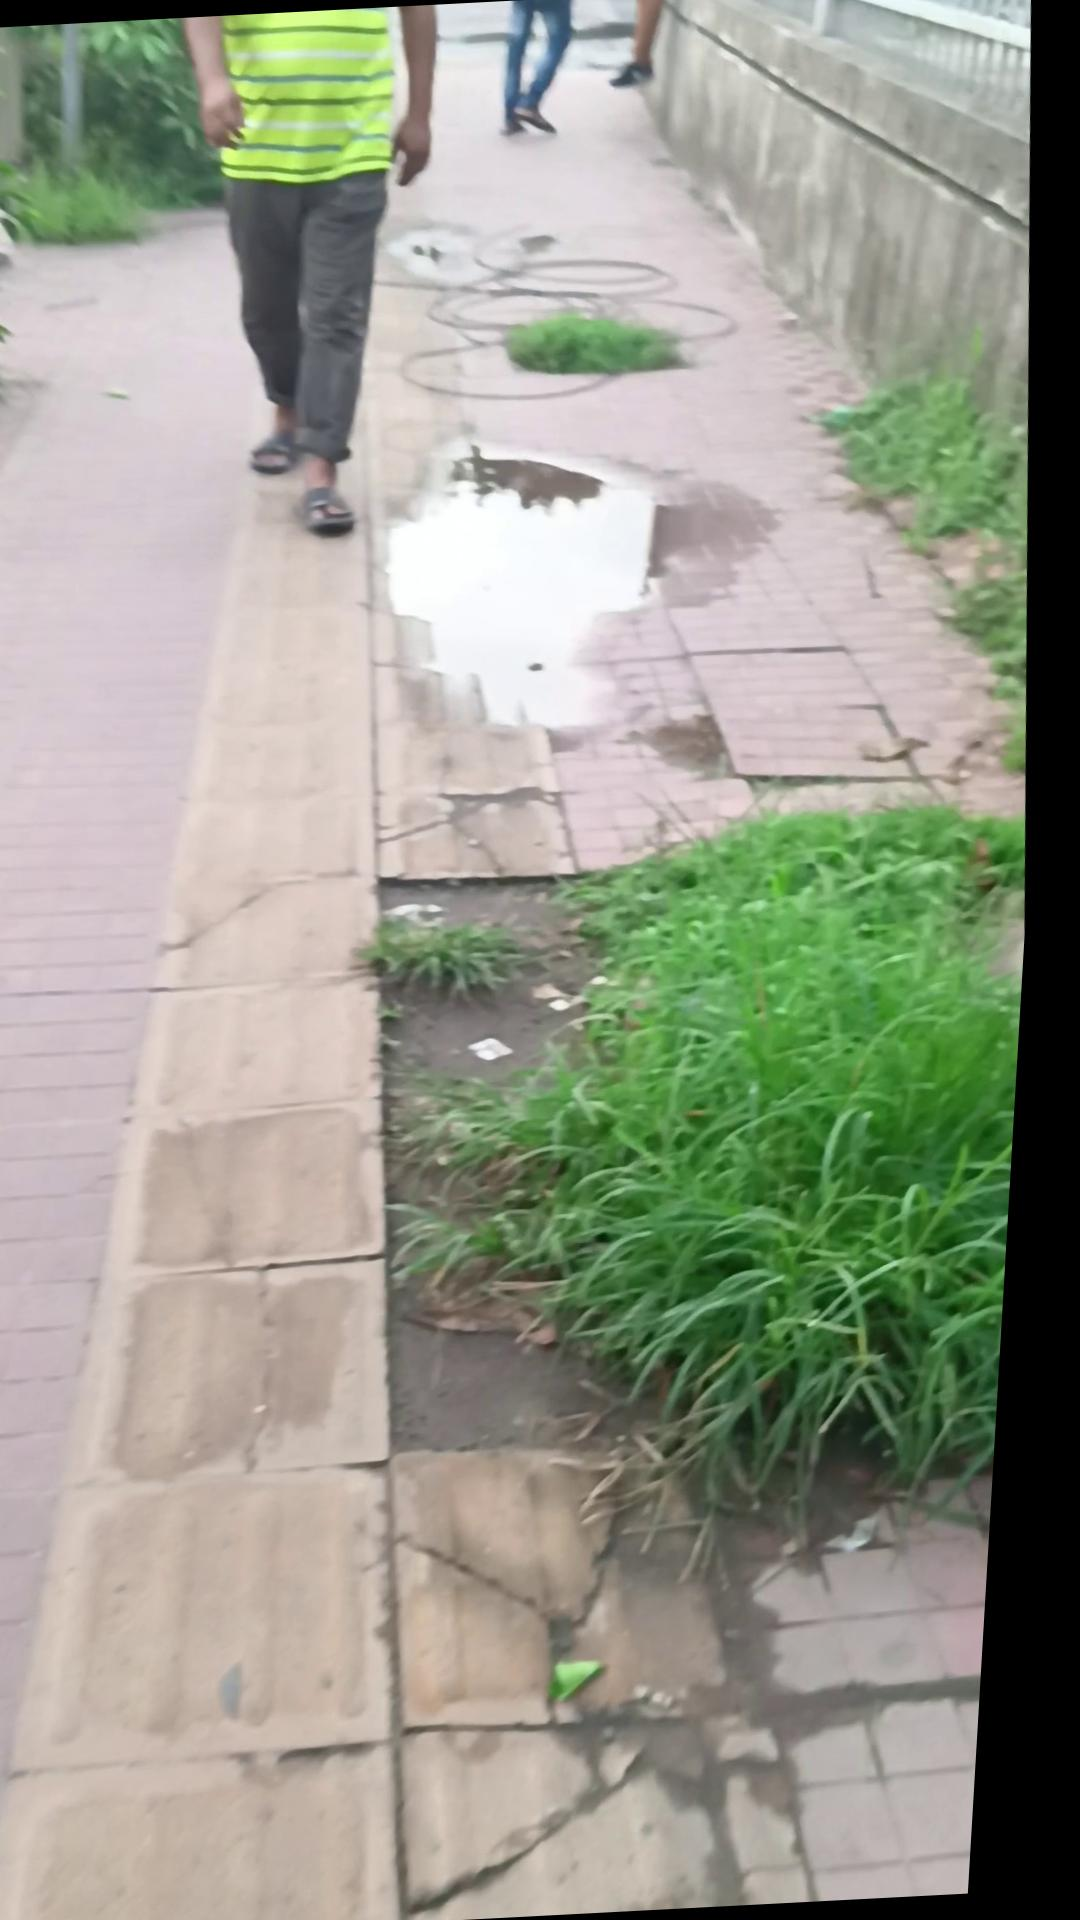Muddy road: (156, 5, 464, 542), (493, 0, 580, 135), (603, 0, 666, 87)
Potted-plant: (0, 0, 1080, 1920)
Railroad-crossing: (323, 405, 770, 781)
